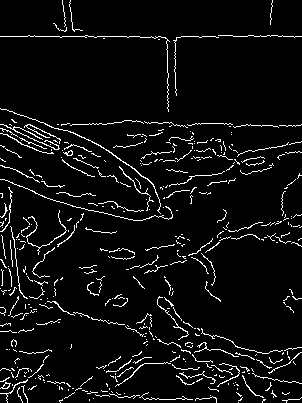cucumber: (2, 95, 166, 230)
